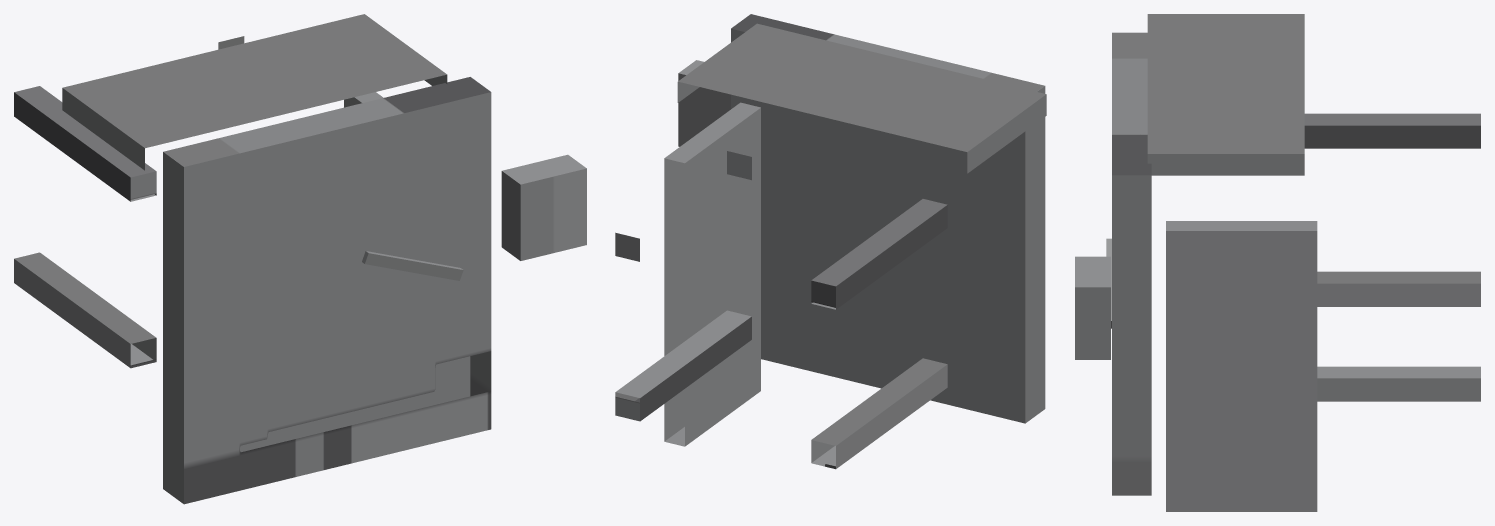
3 renders of one model, left to right at view 1: azimuth 30°, elevation 25°; view 2: azimuth 150°, elevation 25°; view 3: azimuth 270°, elevation 25°, orthographic. The views are drawn at different scales.
Size of the model in its own units: 0.4313 by 0.3809 by 0.3953.
